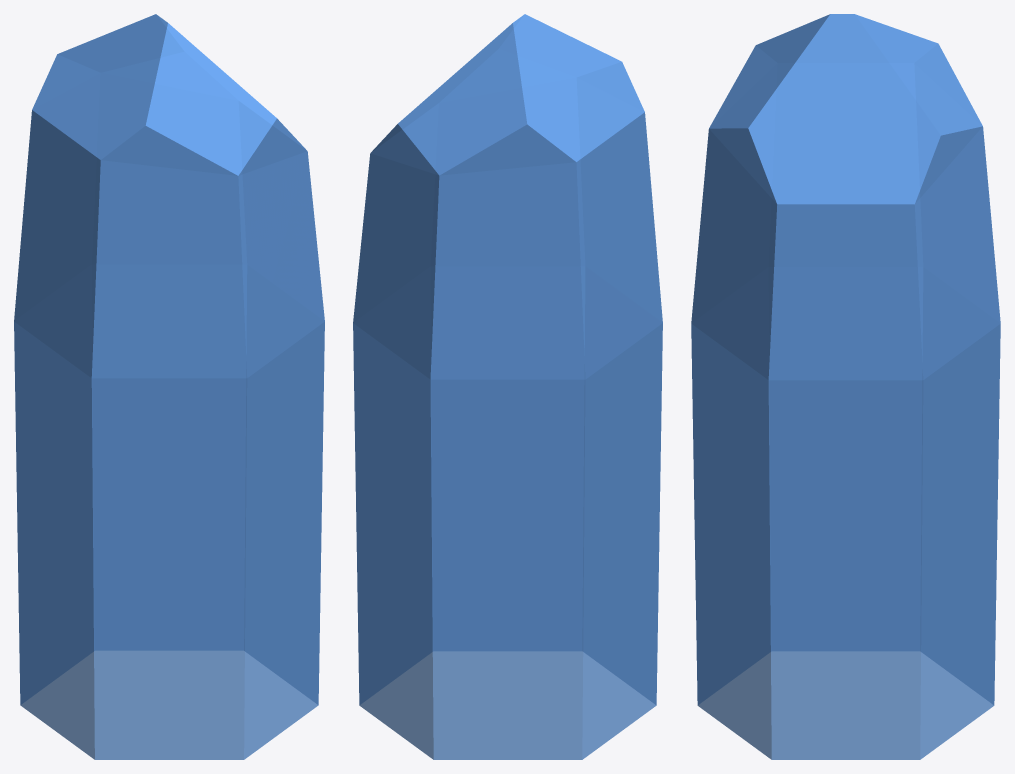
File: Crystal_m_06 5.fbx
3 views of the same model, side by side, from view 1: azimuth 30°, elevation 25°; view 2: azimuth 150°, elevation 25°; view 3: azimuth 270°, elevation 25° (orthographic).
Visible parts, largest first — view 1: Crystal_m_06; view 2: Crystal_m_06; view 3: Crystal_m_06.
Boxes of the visible parts, bbox=[...] form: Crystal_m_06: bbox=[14, 14, 324, 759]; Crystal_m_06: bbox=[353, 14, 662, 759]; Crystal_m_06: bbox=[691, 14, 1000, 759].
Bounding box in the file's own units: 57.21 × 162 × 66.07.
